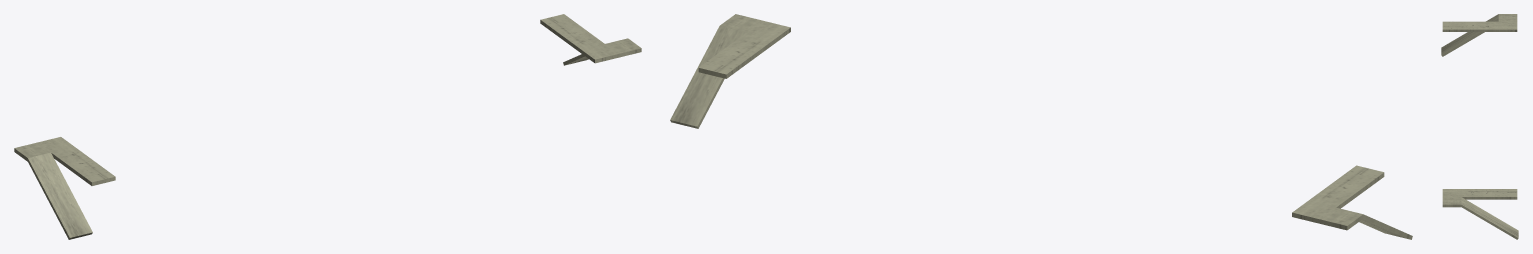
File: SM_NeoLD_06_Block_01.fbx
3 renders of one model, left to right at view 1: azimuth 30°, elevation 25°; view 2: azimuth 150°, elevation 25°; view 3: azimuth 270°, elevation 25°, orthographic. The views are drawn at different scales.
Visible parts, largest first — view 1: SM_NeoLD_06_Block_01; view 2: SM_NeoLD_06_Block_01; view 3: SM_NeoLD_06_Block_01.
Part boxes in pixels (left/top/right/bottom): SM_NeoLD_06_Block_01: left=14, top=14, right=641, bottom=239; SM_NeoLD_06_Block_01: left=670, top=14, right=1412, bottom=239; SM_NeoLD_06_Block_01: left=1441, top=14, right=1518, bottom=239.
Size of the model in its own units: 6167 by 533 by 1056.
